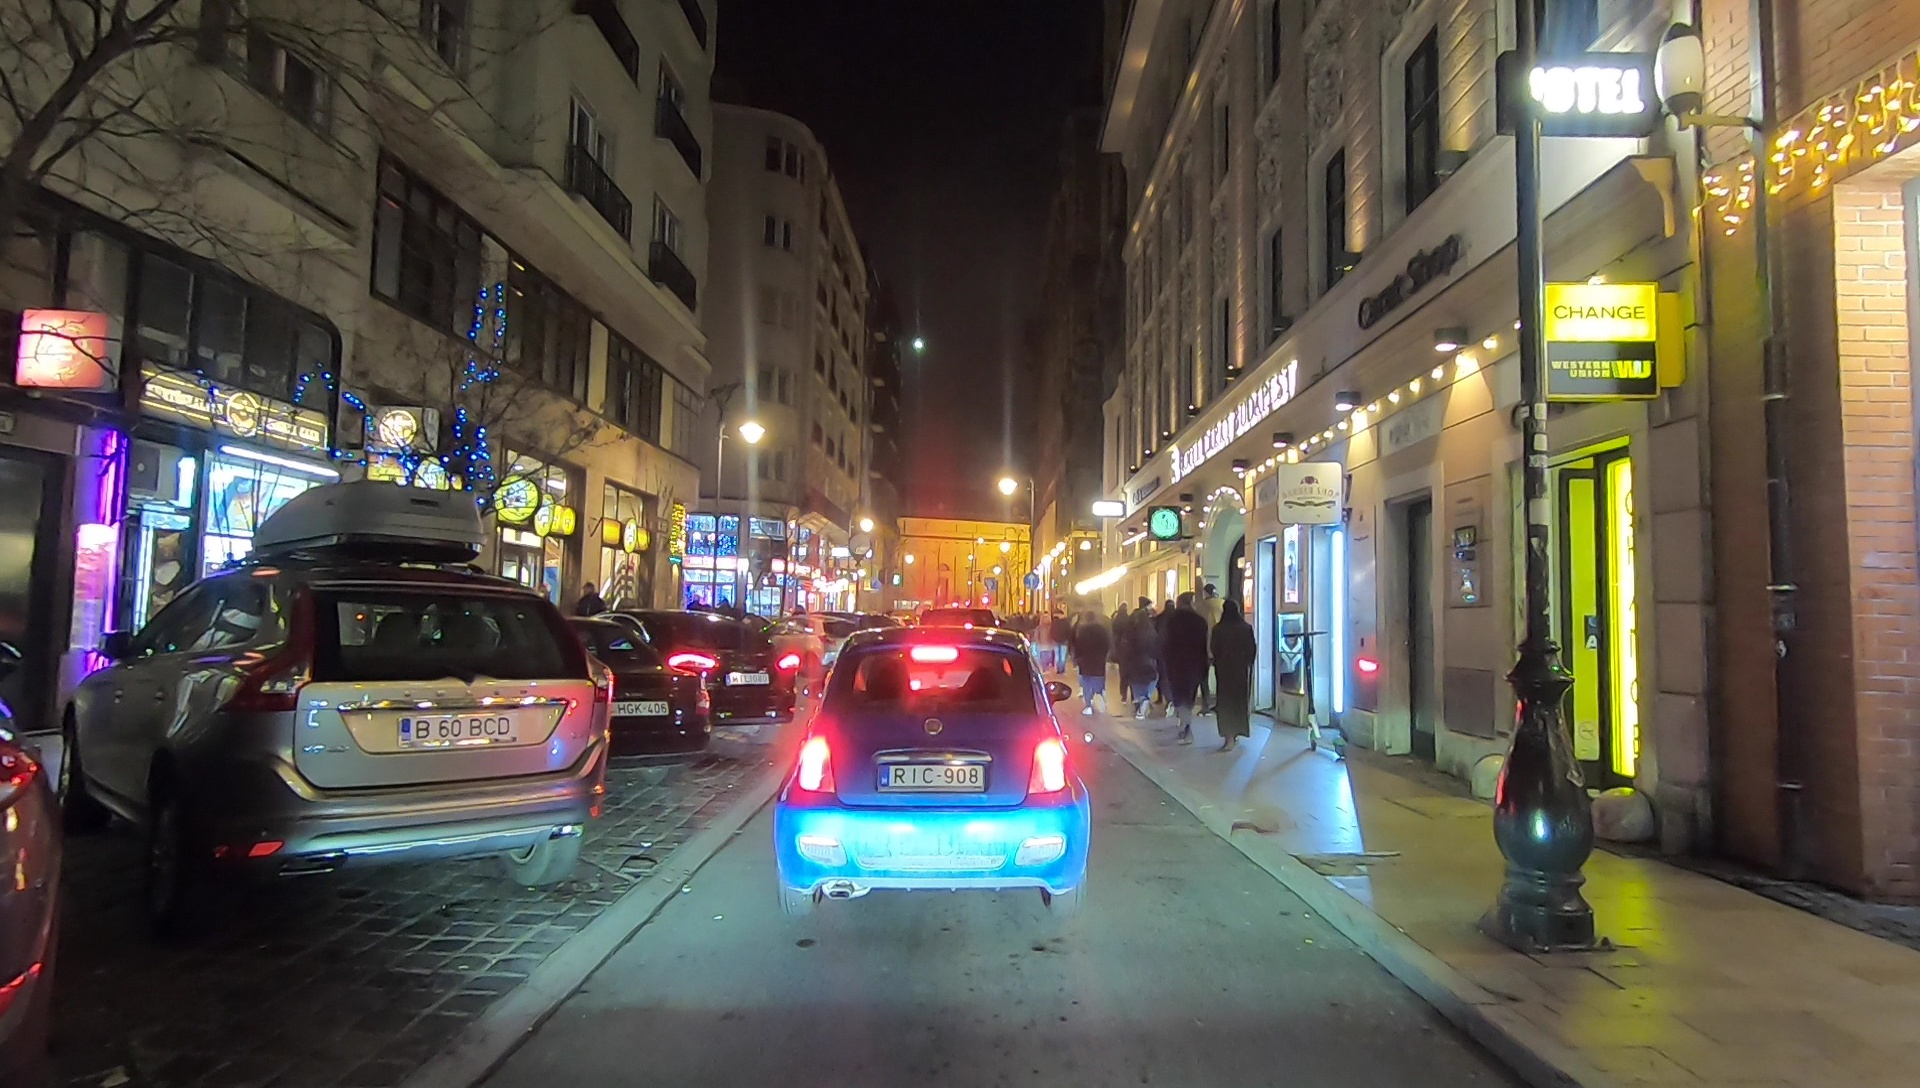person: (1213, 604, 1251, 751), (1168, 594, 1203, 743), (1197, 585, 1226, 716), (1124, 610, 1157, 723), (1076, 610, 1107, 717), (576, 584, 604, 657), (1049, 606, 1070, 679), (1034, 612, 1053, 672)
